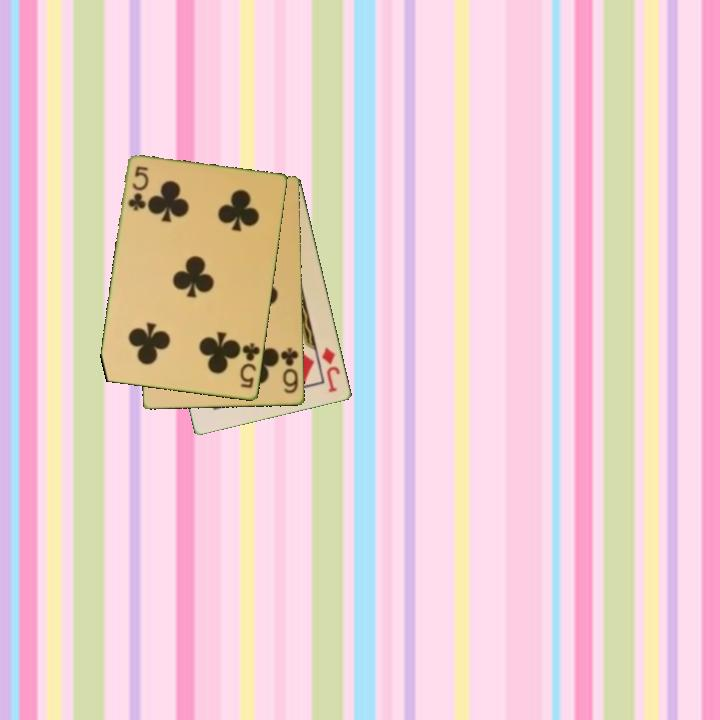5c: (237, 339, 263, 391), (125, 163, 151, 214)
6c: (278, 345, 301, 397)
Jd: (319, 344, 343, 395)
